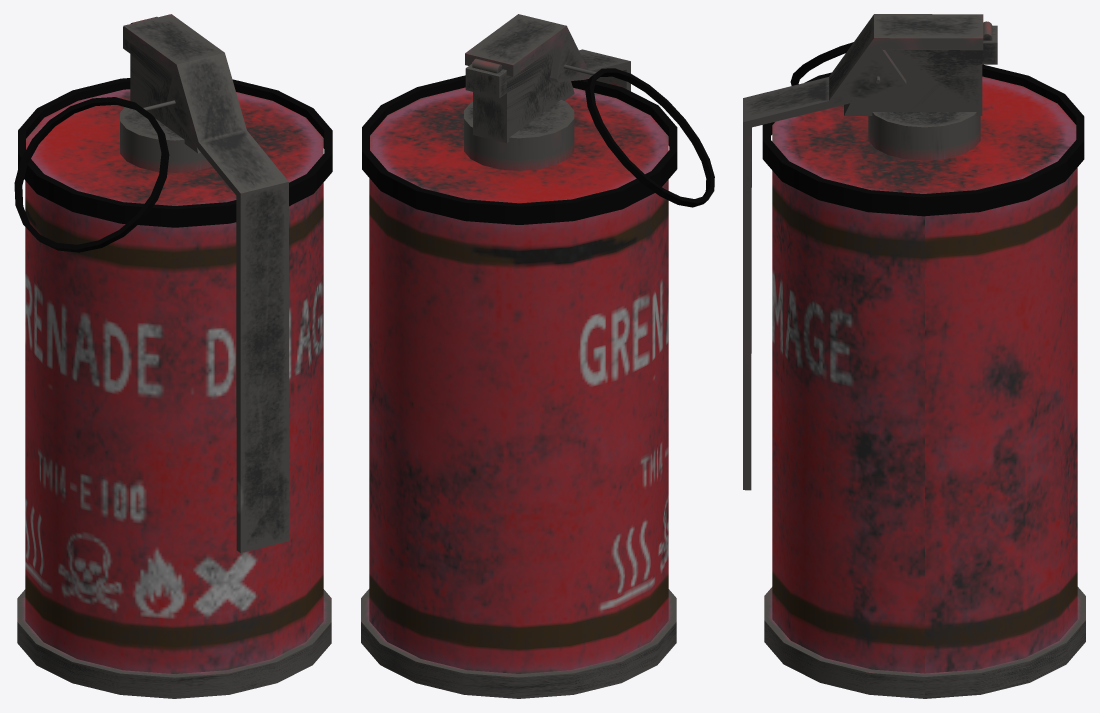
Rendered from incendiary_grenade.glb.
3 renders of one model, left to right at view 1: azimuth 30°, elevation 25°; view 2: azimuth 150°, elevation 25°; view 3: azimuth 270°, elevation 25°, orthographic. The views are drawn at different scales.
Visible parts, largest first — view 1: Cylinder001, Box002, Cylinder006, Cylinder003, Cylinder010, Cylinder007, Box001; view 2: Cylinder001, Cylinder006, Cylinder003, Box002, Box001, Cylinder007, Cylinder010; view 3: Cylinder001, Box002, Cylinder006, Cylinder003, Box001, Cylinder007, Cylinder010.
Part boxes in pixels (x1,y1,x2,y2): Cylinder001: [25, 89, 323, 673]; Box002: [123, 14, 288, 552]; Cylinder006: [18, 78, 332, 227]; Cylinder003: [17, 589, 331, 698]; Cylinder010: [14, 97, 169, 252]; Cylinder007: [120, 107, 212, 172]; Box001: [123, 27, 200, 153]; Cylinder001: [369, 87, 668, 673]; Cylinder006: [362, 75, 677, 224]; Cylinder003: [361, 589, 676, 698]; Box002: [465, 14, 630, 91]; Box001: [465, 46, 574, 143]; Cylinder007: [464, 99, 574, 170]; Cylinder010: [585, 68, 714, 207]; Cylinder001: [772, 76, 1077, 673]; Box002: [743, 14, 983, 490]; Cylinder006: [762, 64, 1084, 216]; Cylinder003: [764, 587, 1085, 698]; Box001: [844, 25, 997, 115]; Cylinder007: [868, 112, 980, 160]; Cylinder010: [790, 42, 853, 85].
Size of the model in its own units: 149 by 277 by 142.
Materials: 1 (1 with a texture image).
